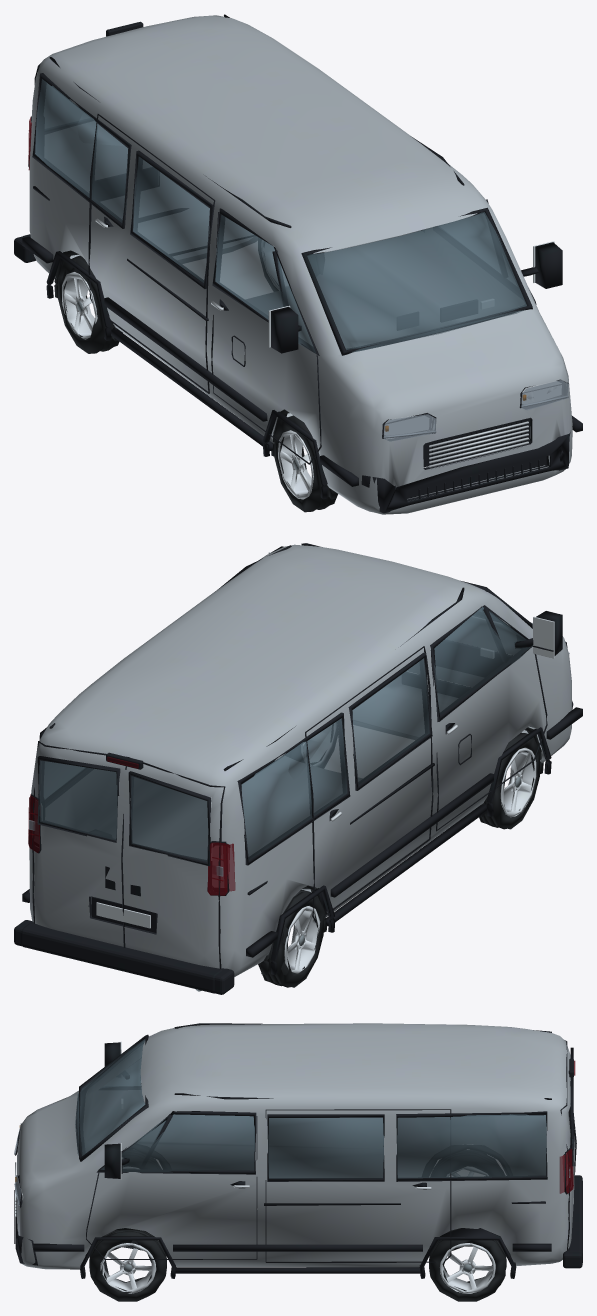
Rendered from car-van-lo.glb.
3 views of the same model, one above another, from view 1: azimuth 30°, elevation 25°; view 2: azimuth 150°, elevation 25°; view 3: azimuth 270°, elevation 25° (orthographic). The views are drawn at different scales.
Parts seen in each view (by area): view 1: Van continuous hollow 12-station steel shell, Front door window curved transparent pane 1, Broad contoured rear step bumper main manufactured bar, Wide moulded front bumper fascia, Air vent surround, Clear foglamp cover, 107 reused Sculpted_tyre.003, 107 reused Sculpted_tyre.001, 107 reused Alloy_five_spoke_rim.001, 107 reused Alloy_five_spoke_rim.003, Rear barn door perimeter.001, Dark wheel house inner return; view 2: Van continuous hollow 12-station steel shell, Front door window curved transparent pane 1, Broad contoured rear step bumper main manufactured bar, Air vent surround, High-mounted reflective red stop lens, Rear barn door perimeter.001, 107 reused Sculpted_tyre.003, 107 reused Alloy_five_spoke_rim.001, 107 reused Sculpted_tyre.001, 107 reused Alloy_five_spoke_rim.003, 107 reused Alloy_five_spoke_rim; view 3: Van continuous hollow 12-station steel shell, Front door window curved transparent pane 1, Broad contoured rear step bumper main manufactured bar, 107 reused Sculpted_tyre, 107 reused Sculpted_tyre.002, 107 reused Alloy_five_spoke_rim.002, 107 reused Alloy_five_spoke_rim, Rear barn door perimeter, Dark wheel house inner return, 107 reused Sculpted_tyre.003, High-mounted reflective red stop lens, 107 reused Sculpted_tyre.001 (+1 smaller).
Boxes of the visible parts, box(x1,y1,x2,y2) form: Van continuous hollow 12-station steel shell: box(29, 15, 572, 514); Front door window curved transparent pane 1: box(35, 79, 526, 353); Broad contoured rear step bumper main manufactured bar: box(14, 14, 582, 501); Wide moulded front bumper fascia: box(361, 424, 573, 513); Air vent surround: box(95, 218, 561, 467); Clear foglamp cover: box(383, 380, 568, 441); 107 reused Sculpted_tyre.003: box(58, 255, 122, 353); 107 reused Sculpted_tyre.001: box(274, 415, 337, 512); 107 reused Alloy_five_spoke_rim.001: box(278, 430, 313, 499); 107 reused Alloy_five_spoke_rim.003: box(62, 272, 97, 339); Rear barn door perimeter.001: box(34, 30, 215, 393); Dark wheel house inner return: box(54, 250, 336, 499); Van continuous hollow 12-station steel shell: box(29, 544, 571, 976); Front door window curved transparent pane 1: box(39, 607, 532, 861); Broad contoured rear step bumper main manufactured bar: box(14, 543, 582, 994); Air vent surround: box(34, 552, 554, 928); High-mounted reflective red stop lens: box(28, 756, 235, 895); Rear barn door perimeter.001: box(128, 646, 433, 968); 107 reused Sculpted_tyre.003: box(258, 889, 324, 987); 107 reused Alloy_five_spoke_rim.001: box(500, 747, 536, 817); 107 reused Sculpted_tyre.001: box(479, 732, 539, 829); 107 reused Alloy_five_spoke_rim.003: box(197, 905, 320, 990); 107 reused Alloy_five_spoke_rim: box(301, 722, 335, 766); Van continuous hollow 12-station steel shell: box(17, 1023, 575, 1269); Front door window curved transparent pane 1: box(75, 1039, 573, 1178); Broad contoured rear step bumper main manufactured bar: box(14, 1023, 582, 1278); 107 reused Sculpted_tyre: box(89, 1230, 166, 1301); 107 reused Sculpted_tyre.002: box(429, 1240, 506, 1301); 107 reused Alloy_five_spoke_rim.002: box(439, 1243, 495, 1293); 107 reused Alloy_five_spoke_rim: box(100, 1243, 156, 1293); Rear barn door perimeter: box(265, 1066, 569, 1262); Dark wheel house inner return: box(80, 1144, 516, 1276); 107 reused Sculpted_tyre.003: box(431, 1150, 504, 1176); High-mounted reflective red stop lens: box(559, 1060, 575, 1193); 107 reused Sculpted_tyre.001: box(103, 1150, 160, 1168).
Bounding box in the file's own units: 2.59 × 2.29 × 5.7.
Materials: 9 (9 with a texture image).
